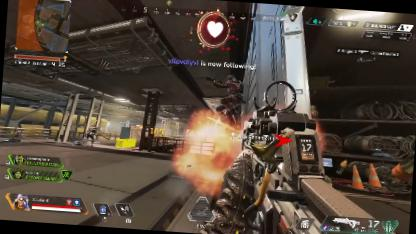Target: (217, 76, 242, 117), (84, 127, 100, 148)
